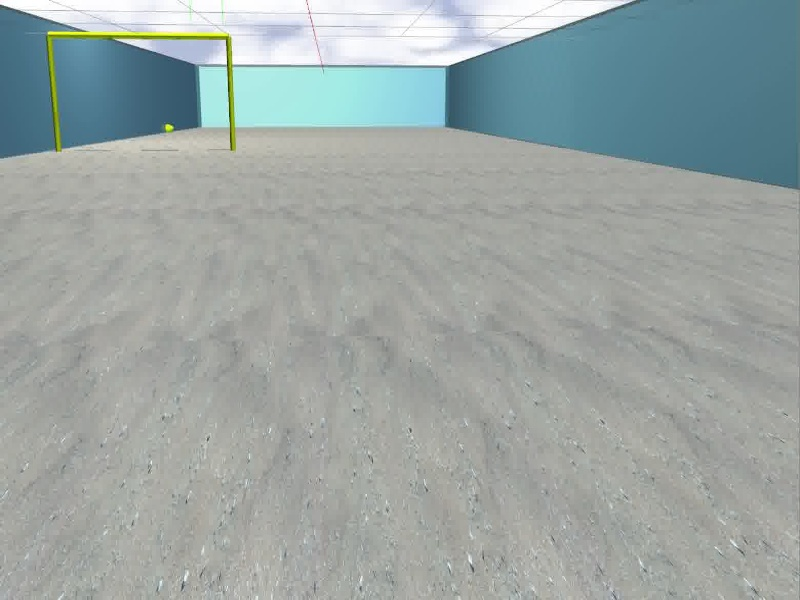gate: (42, 31, 239, 153)
